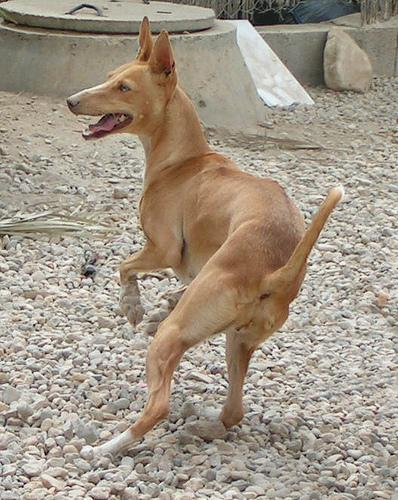Ibizan_hound: (65, 13, 342, 470)
